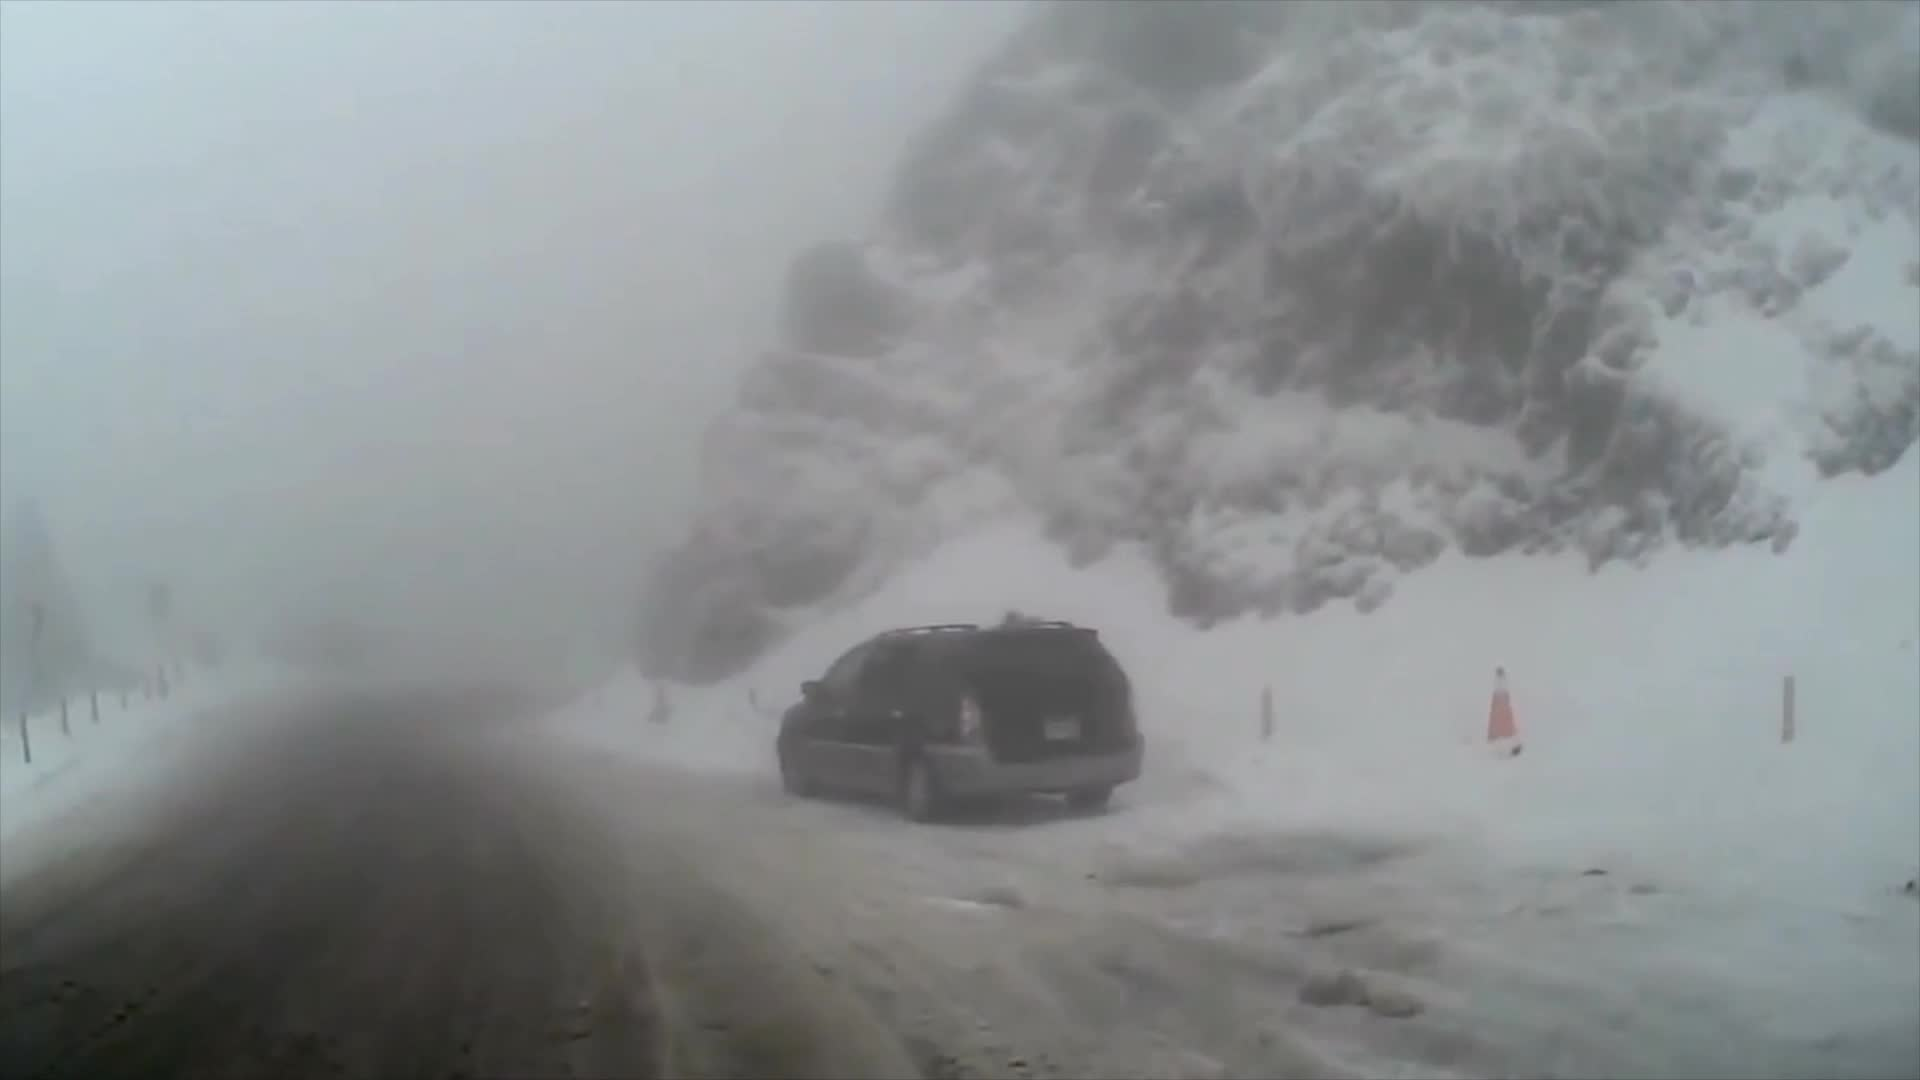vehicle: (771, 617, 1143, 819)
